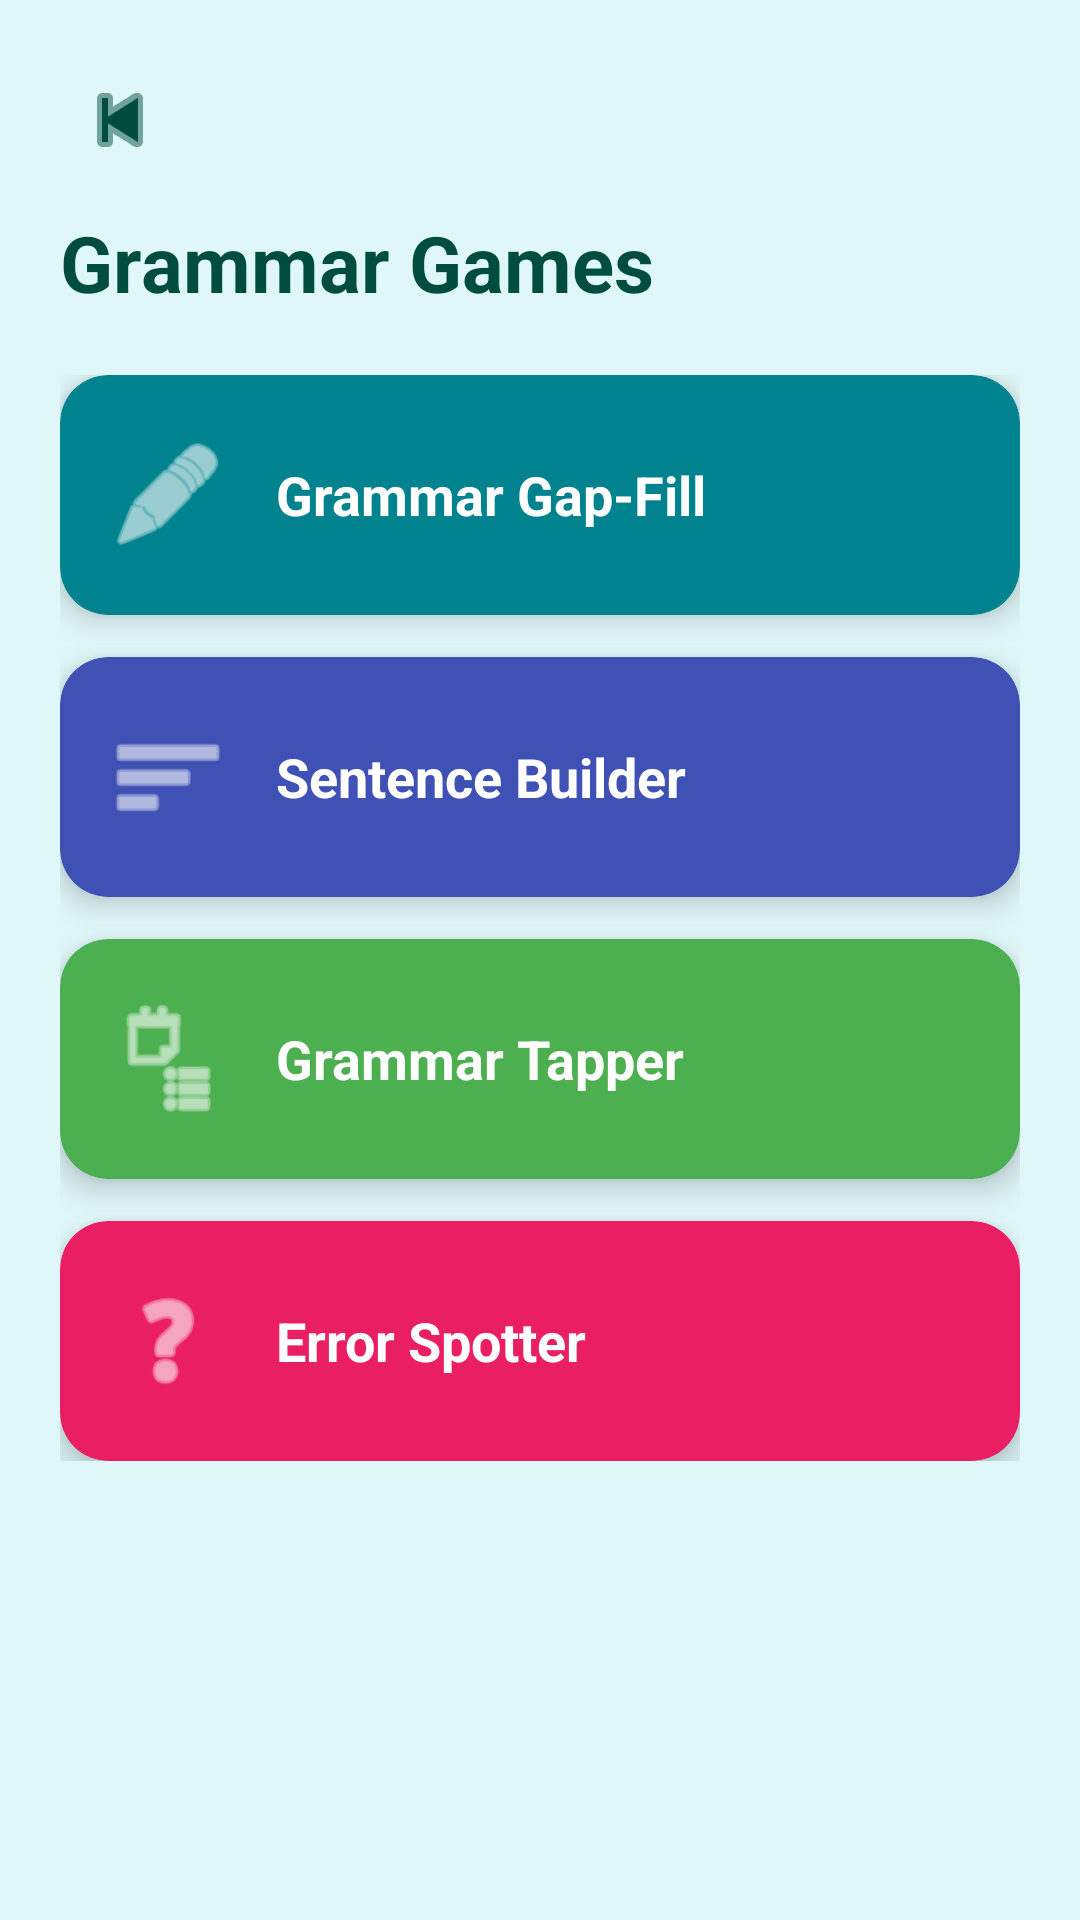

Screen size 1080*1920. Icon name, then its center in pixels as [x,y]:
agenda: [169,1058]
edit: [167,494]
help: [168,1341]
sort by size: [168,777]
